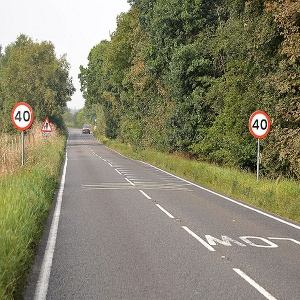40 speed: (248, 110, 272, 138), (11, 102, 34, 131)
